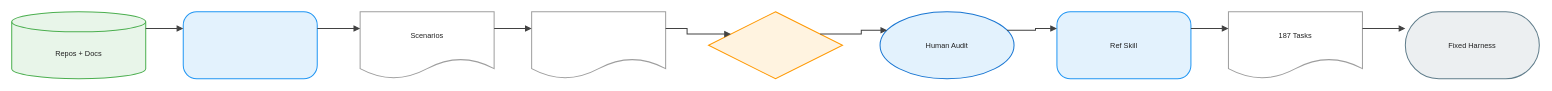
Image size: 1552x91. Some labels were removed from this diagram. Here are the shapes that lost their labels. From the top down, the centre of each, then its label:
At [249,45]: "KG".
At [598,45]: "Tasks + Tests".
At [775,45]: "Auto Filters".
